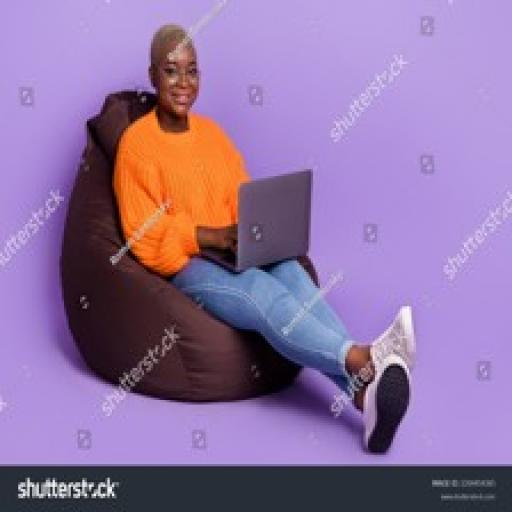human: (104, 24, 418, 457)
